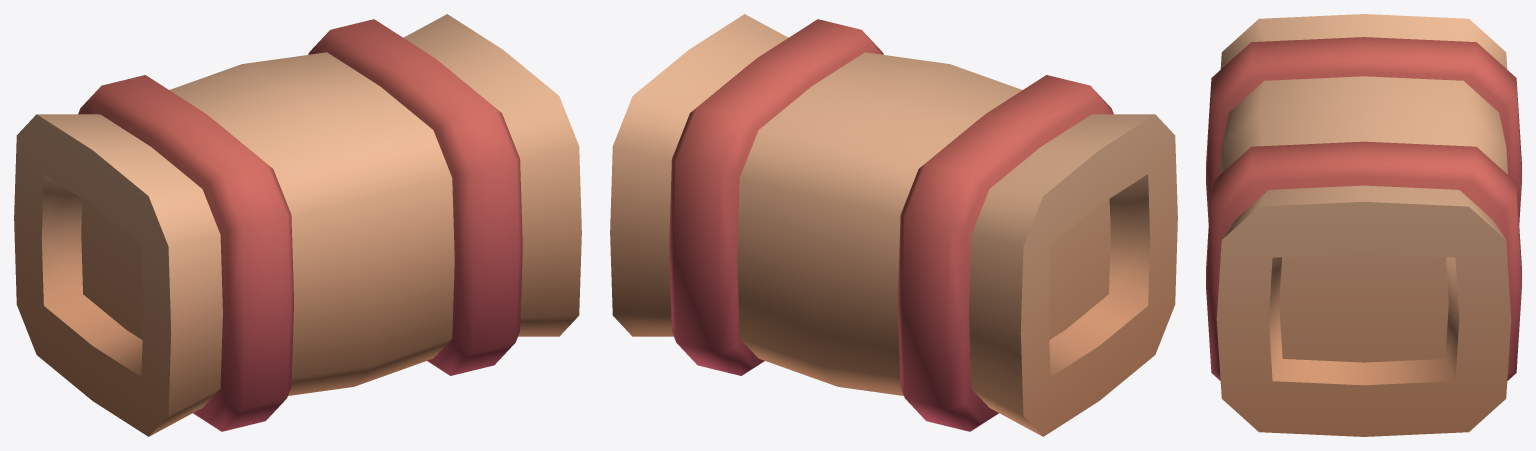
Rendered from farm_hay_round.glb.
The picture shows the model from 3 angles, left to right: view 1: azimuth 30°, elevation 25°; view 2: azimuth 150°, elevation 25°; view 3: azimuth 270°, elevation 25°; orthographic projection. The views are drawn at different scales.
Parts seen in each view (by area): view 1: hay-bale-bundled; view 2: hay-bale-bundled; view 3: hay-bale-bundled.
Boxes of the visible parts, x1,y1,x2,y2 form: hay-bale-bundled: [14, 14, 581, 436]; hay-bale-bundled: [610, 14, 1177, 436]; hay-bale-bundled: [1206, 14, 1521, 436].
Bounding box in the file's own units: 0.6066 × 0.3798 × 0.4311.
1 material, 1 textured.
